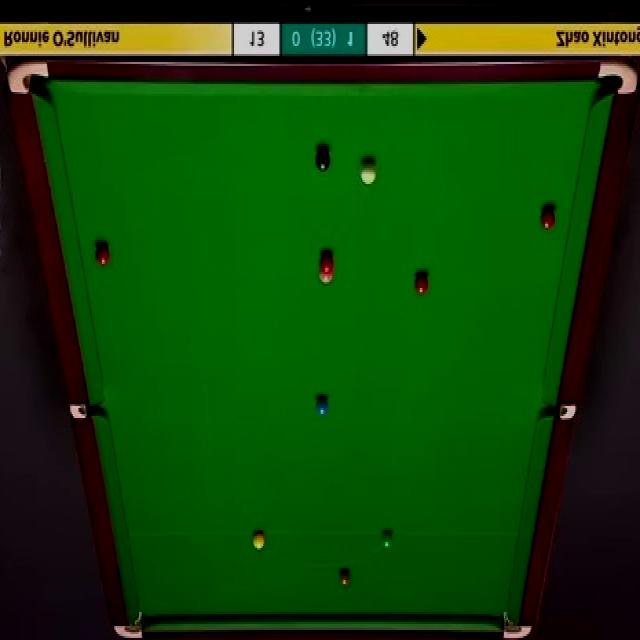black-ball: (315, 148, 331, 174)
blue-ball: (315, 396, 330, 418)
brown-ball: (338, 568, 351, 588)
green-ball: (380, 530, 393, 551)
pink-ball: (318, 270, 334, 284)
red-ball: (95, 242, 111, 268), (540, 207, 557, 229), (318, 252, 335, 273), (414, 272, 428, 295)
white-ball: (359, 159, 377, 184)
yellow-ball: (254, 529, 267, 549)
